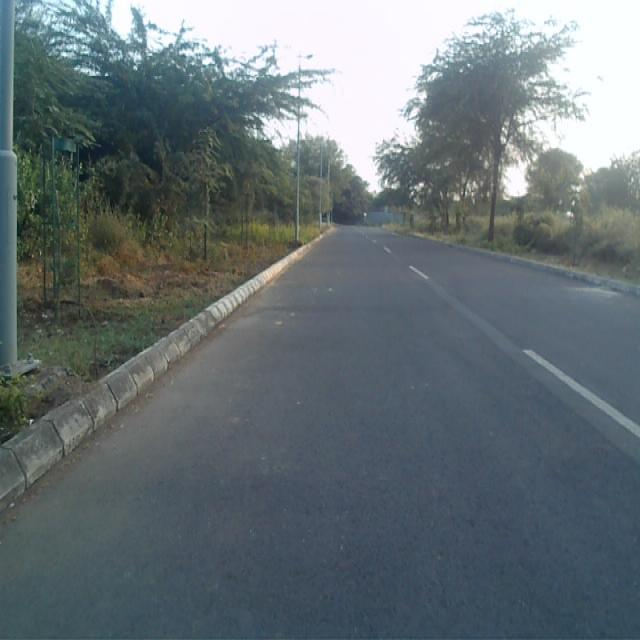lane: (0, 230, 640, 640)
